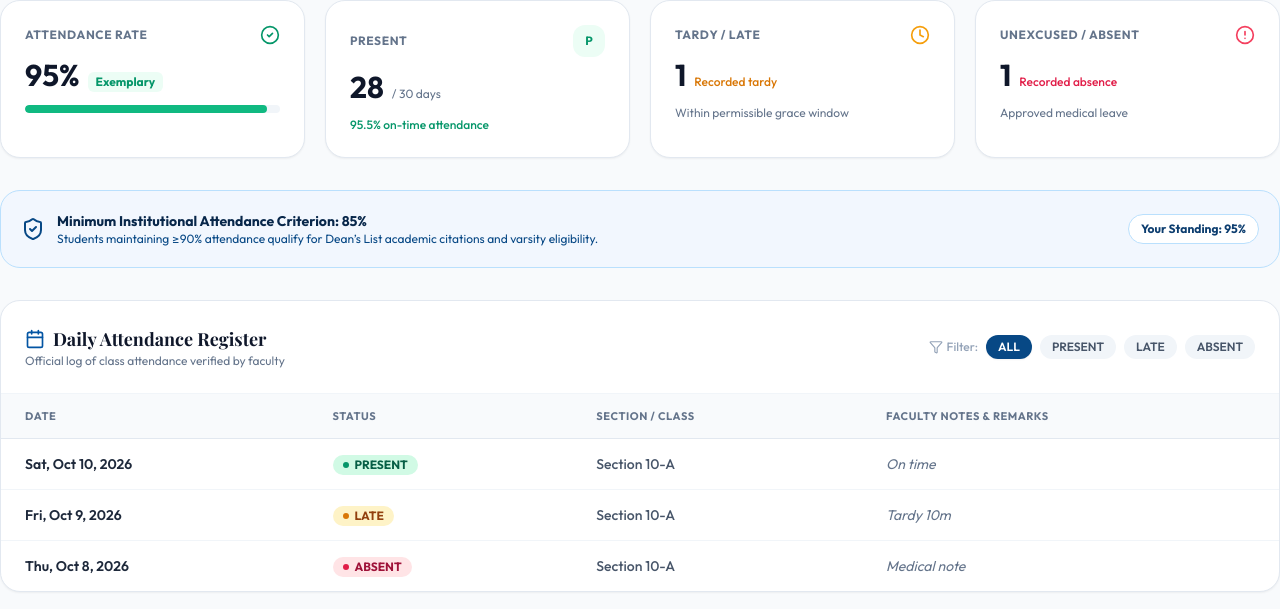
Phase 12 — Student Portal UI & Section Suite › StudentAttendanceSection › renders KPI stats, standing rate, and filters by status
Expected: the text "95%" is shown, [25,57,80,93]
Expected: the text "Exemplary" is shown, [88,72,163,92]
# Filter by LATE
Click the button "LATE" at (1150, 347), box [1124,335,1177,359]
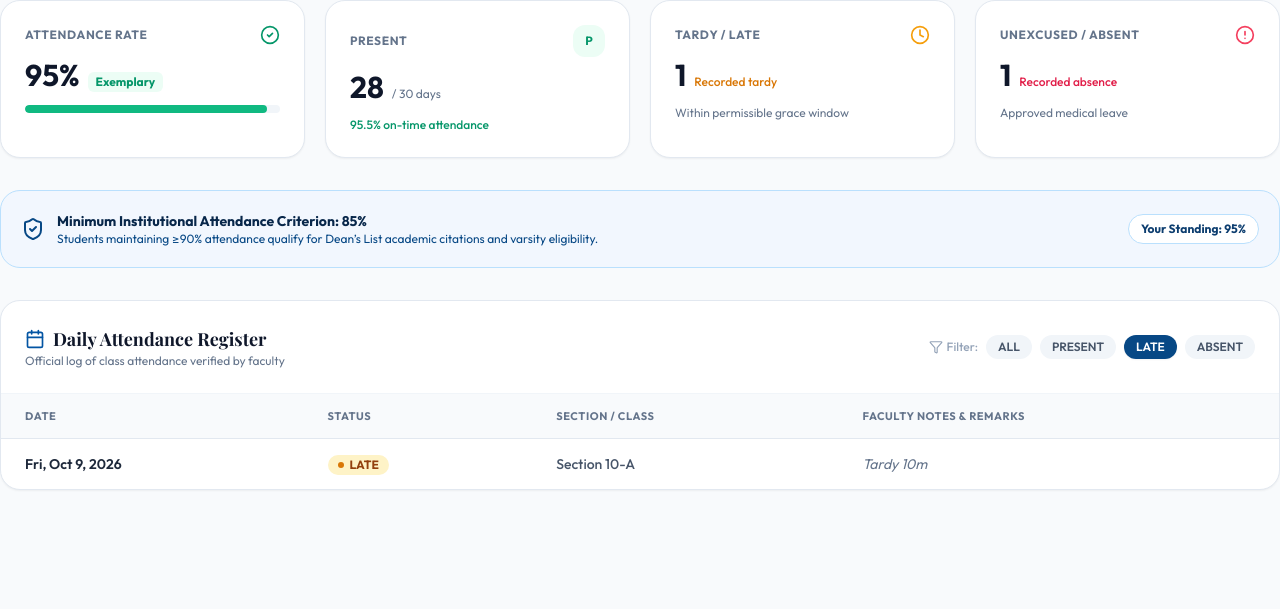
Expected: the text "Tardy 10m" is shown, [838,438,1279,489]
Expected: the text "On time" is gone
